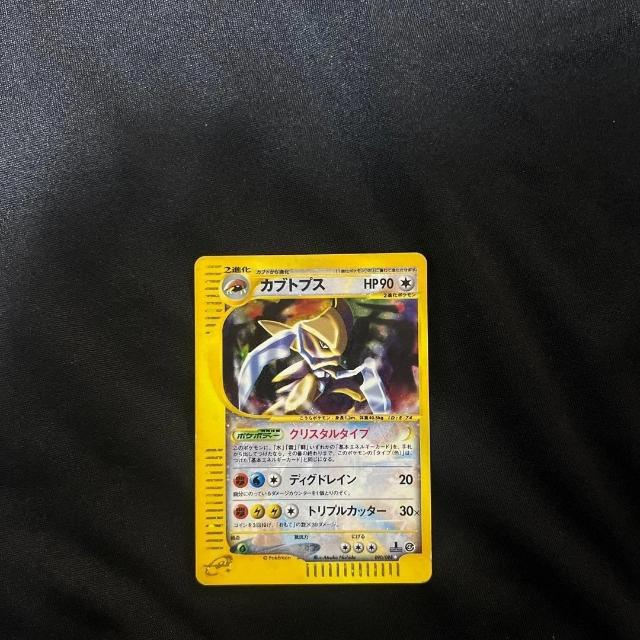Card: (190, 246, 439, 591)
Name: (257, 275, 330, 295)
